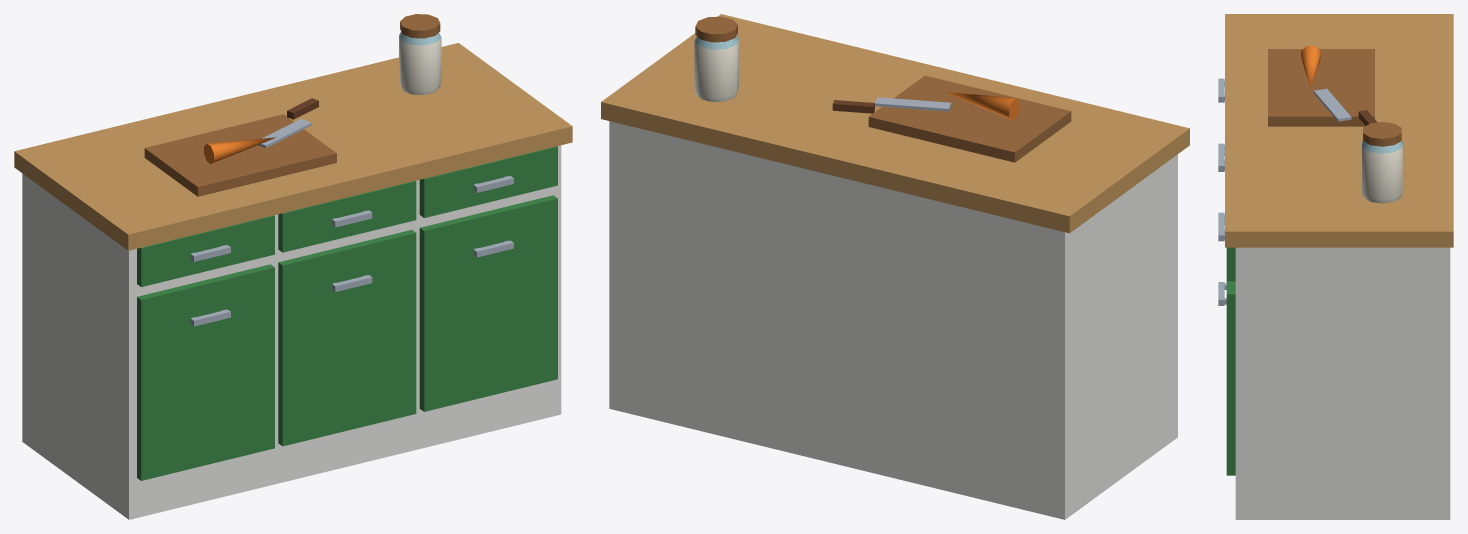
The model's file is kitchen-counter.glb.
3 views of the same model, side by side, from view 1: azimuth 30°, elevation 25°; view 2: azimuth 150°, elevation 25°; view 3: azimuth 270°, elevation 25° (orthographic). The views are drawn at different scales.
Parts seen in each view (by area): view 1: Counter fronts, Counter body, Counter top, Cutting board, Counter jar, Counter handles, Counter knife, Counter carrot; view 2: Counter body, Counter top, Cutting board, Counter jar, Counter knife, Counter carrot; view 3: Counter body, Counter top, Cutting board, Counter jar, Counter fronts, Counter handles, Counter knife, Counter carrot.
Boxes of the visible parts, box(x1,y1,x2,y2) form: Counter fronts: box(137, 146, 557, 480); Counter body: box(22, 145, 561, 519); Counter top: box(14, 43, 572, 250); Cutting board: box(144, 114, 336, 196); Counter jar: box(399, 14, 441, 94); Counter handles: box(190, 176, 513, 326); Counter knife: box(258, 98, 318, 147); Counter carrot: box(204, 137, 276, 164); Counter body: box(609, 121, 1177, 519); Counter top: box(601, 14, 1189, 233); Cutting board: box(868, 75, 1071, 162); Counter jar: box(694, 16, 738, 101); Counter knife: box(832, 97, 951, 113); Counter carrot: box(943, 91, 1019, 119); Counter body: box(1235, 247, 1450, 519); Counter top: box(1225, 14, 1453, 247); Cutting board: box(1268, 49, 1374, 126); Counter jar: box(1362, 122, 1402, 203); Counter fronts: box(1226, 247, 1235, 475); Counter handles: box(1218, 78, 1226, 305); Counter knife: box(1313, 88, 1377, 125); Counter carrot: box(1301, 46, 1320, 87).
Bounding box in the file's own units: 1.44 × 1.1 × 0.659.
